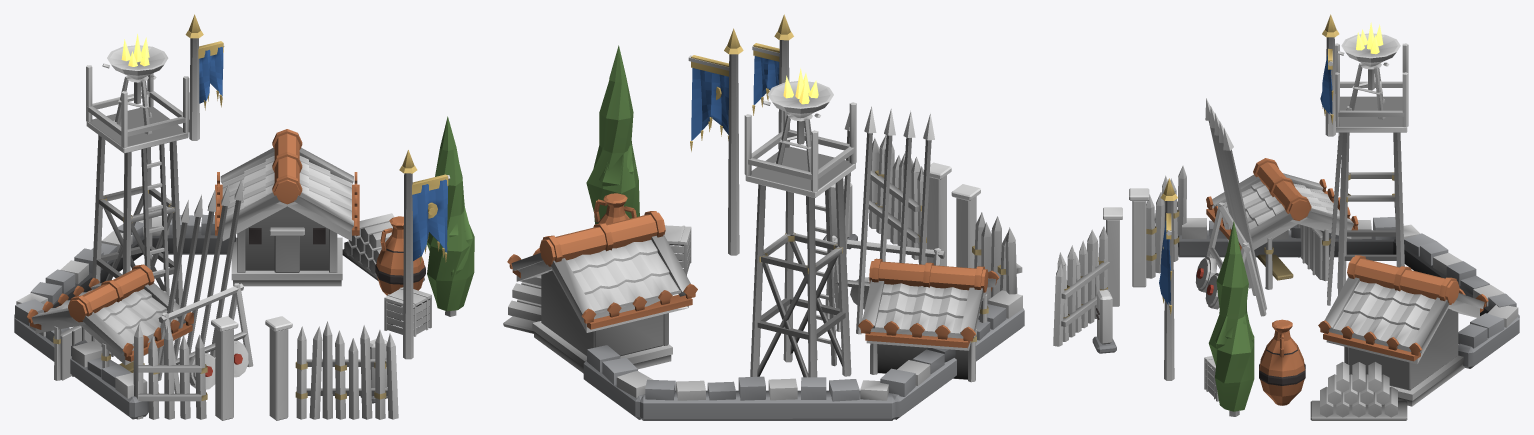
Rendered from sentry-camp-l1.glb.
3 views of the same model, side by side, from view 1: azimuth 30°, elevation 25°; view 2: azimuth 150°, elevation 25°; view 3: azimuth 270°, elevation 25° (orthographic). The views are drawn at different scales.
Visible parts, largest first — view 1: sentry-camp-l1; view 2: sentry-camp-l1; view 3: sentry-camp-l1.
Part boxes in pixels (x1,y1,x2,y2): sentry-camp-l1: (14, 14, 474, 420); sentry-camp-l1: (503, 14, 1024, 420); sentry-camp-l1: (1053, 14, 1519, 420).
Size of the model in its own units: 1.5 by 1.12 by 1.56.
